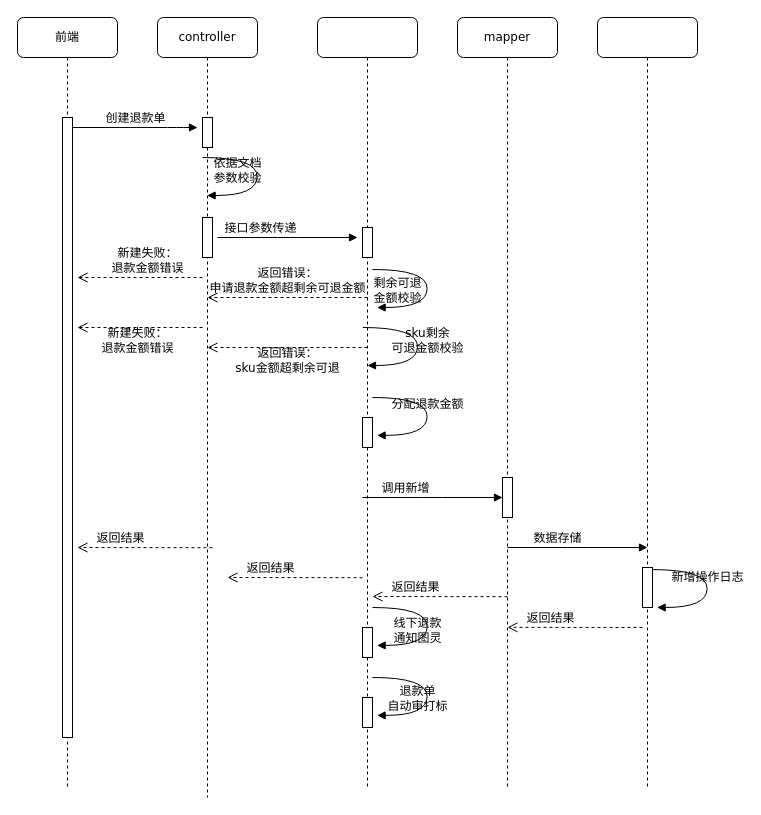
The diagram is 761 pixels wide and 815 high, and some of its shapes have lost their labels. Each missing label, with the box of its shape:
service: (316, 16, 418, 788)
数据库: (596, 16, 698, 788)
